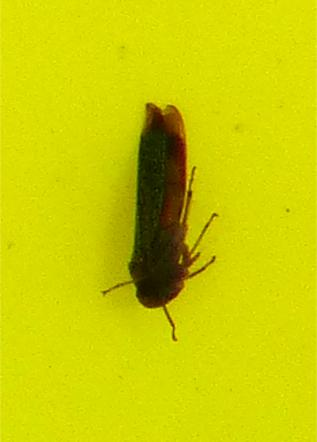Hemiptera: (100, 100, 217, 342)
